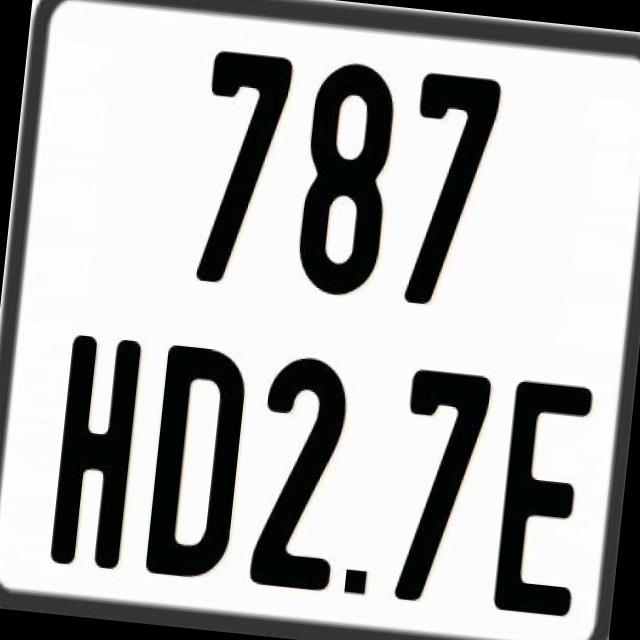2: (247, 350, 355, 589)
7: (398, 68, 510, 316), (186, 48, 296, 291), (386, 365, 490, 610)
8: (290, 54, 400, 300)
D: (140, 342, 252, 582)
E: (492, 378, 600, 616)
H: (45, 332, 137, 572)
